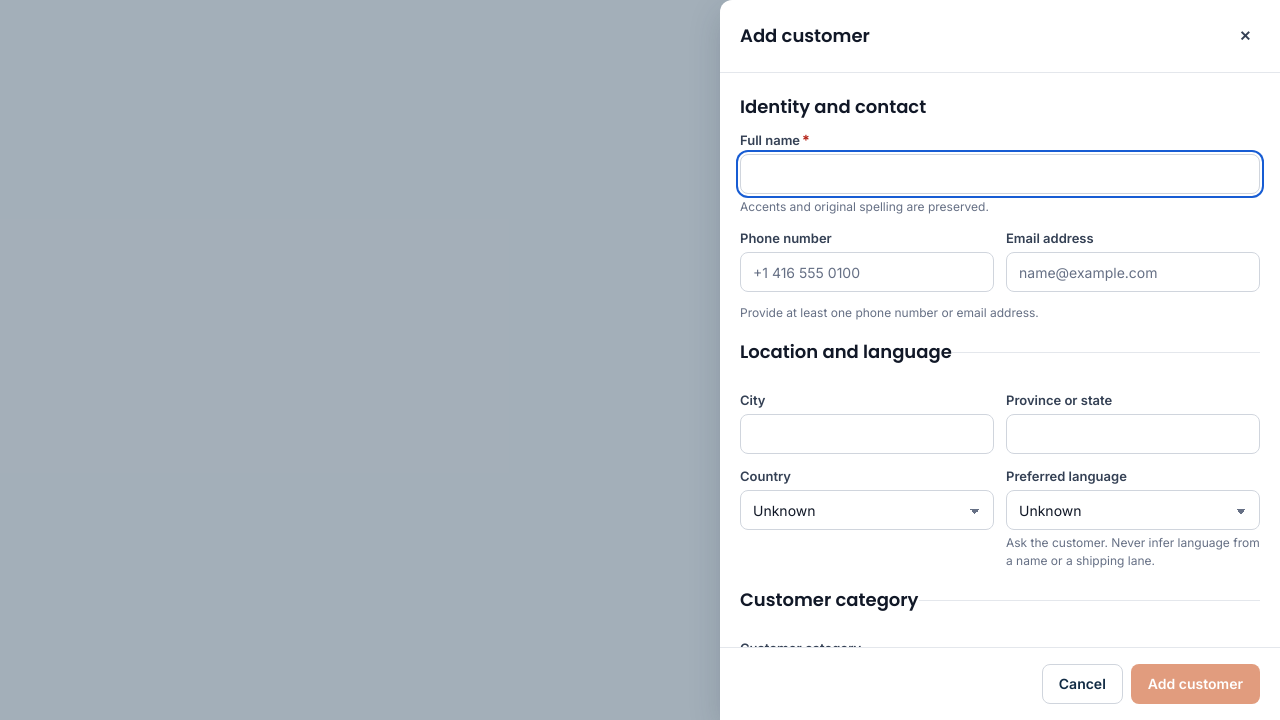
Test: Add customer › error summary › maps the server's request-validation 422 to its field in the form's own words
In the field labelled "Full name": point(1000, 174) [740,154,1260,194], type "Trần Văn Bình"
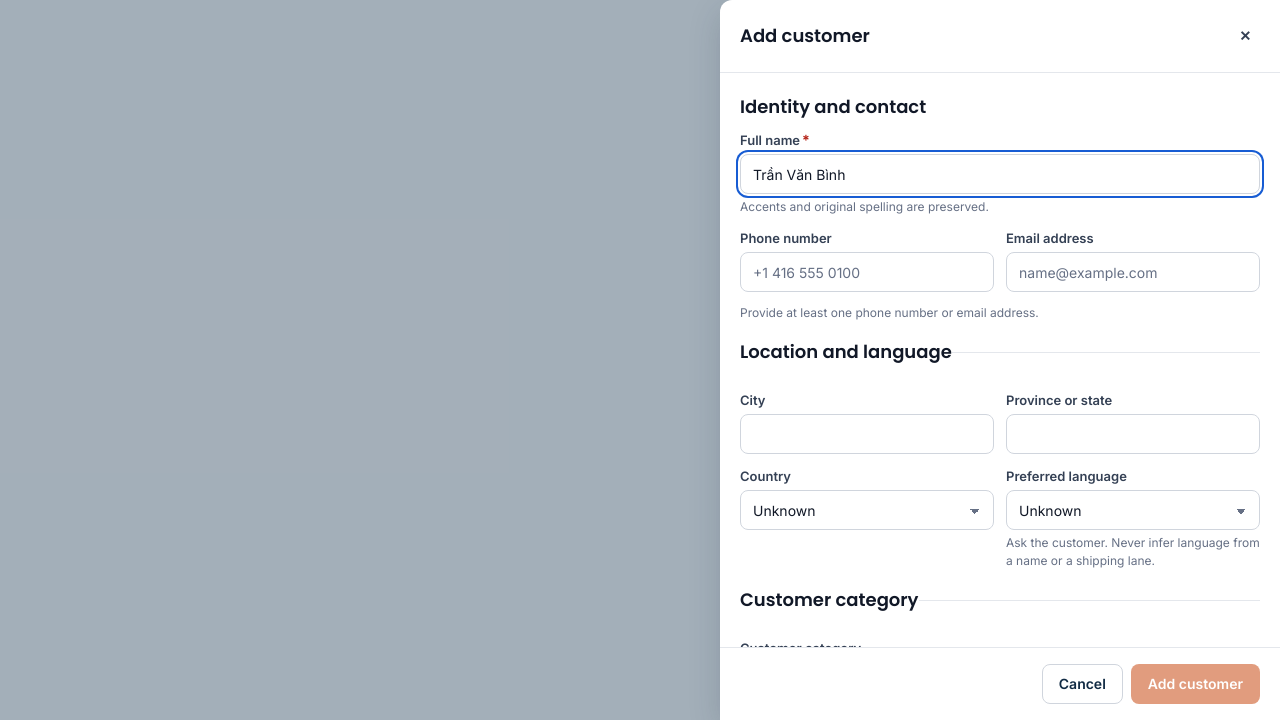
In the field labelled "Phone number": point(867, 272) [740,252,994,292], type "+1 416 555 0101"
(page scrolled)
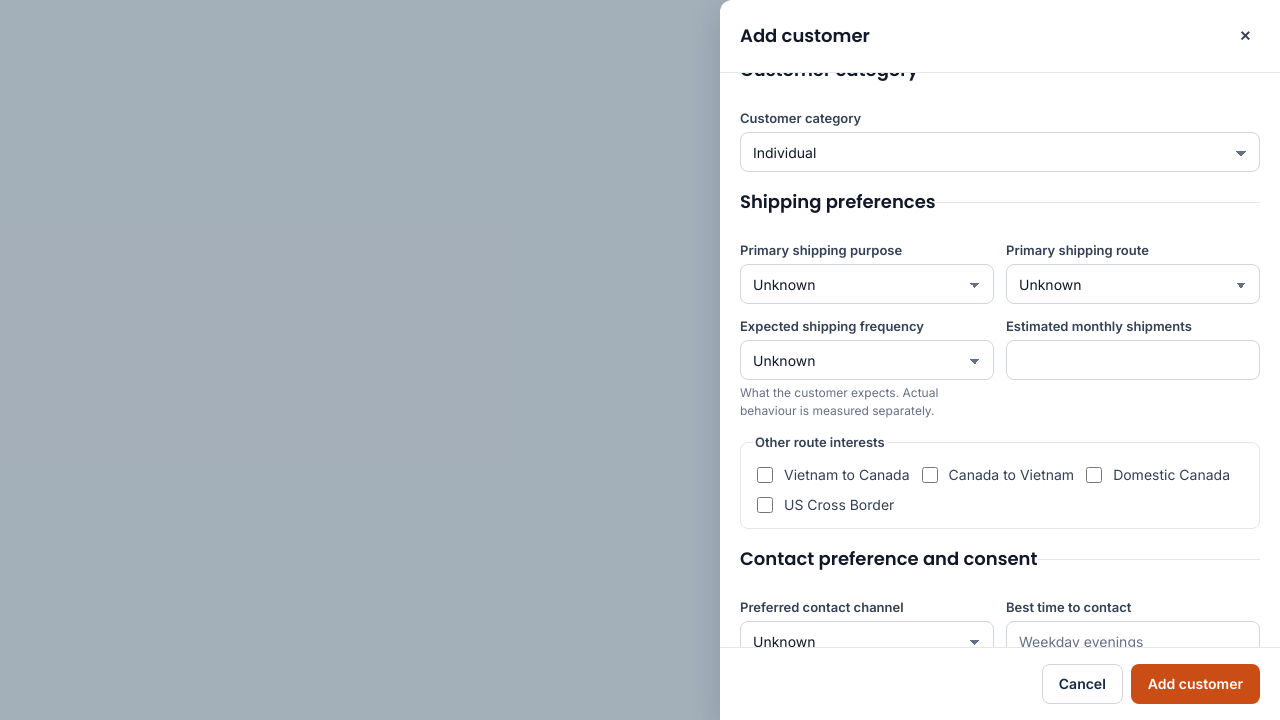
In the number field labelled "Estimated monthly shipments": point(1133, 360) [1006,340,1260,380], type "4"
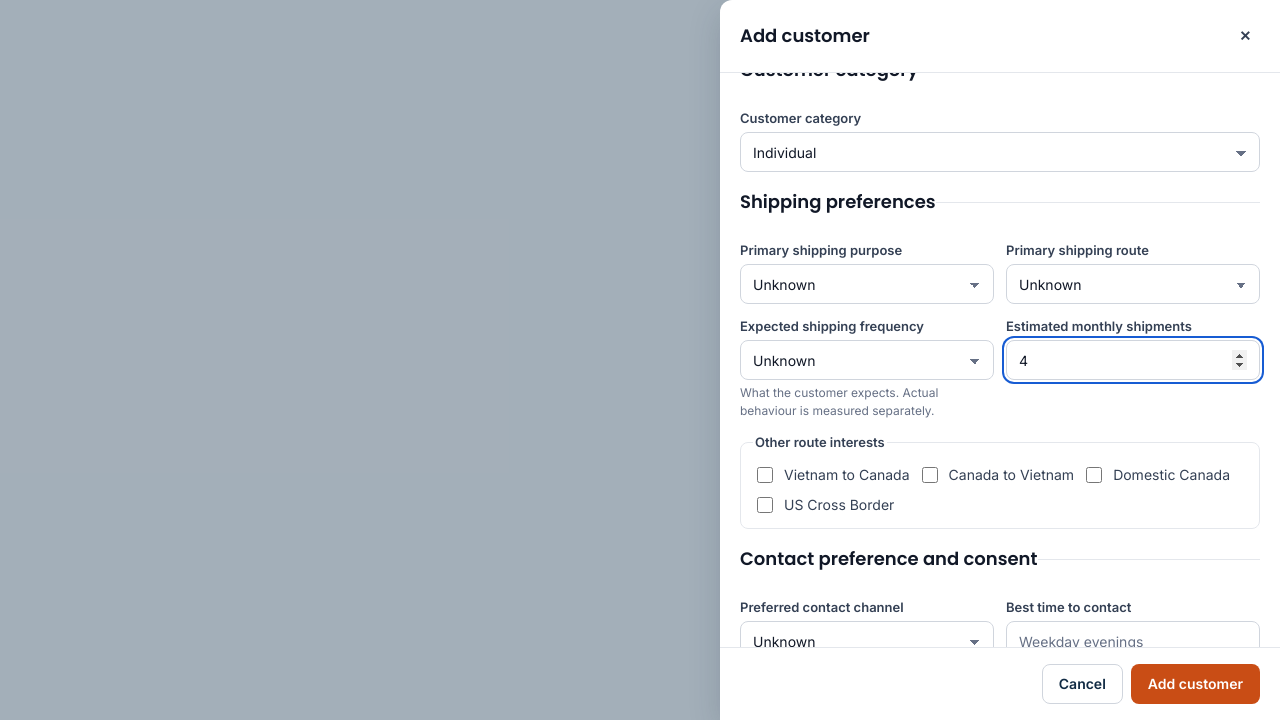
Click the button "Add customer": point(1195, 684) [1131,664,1260,704]
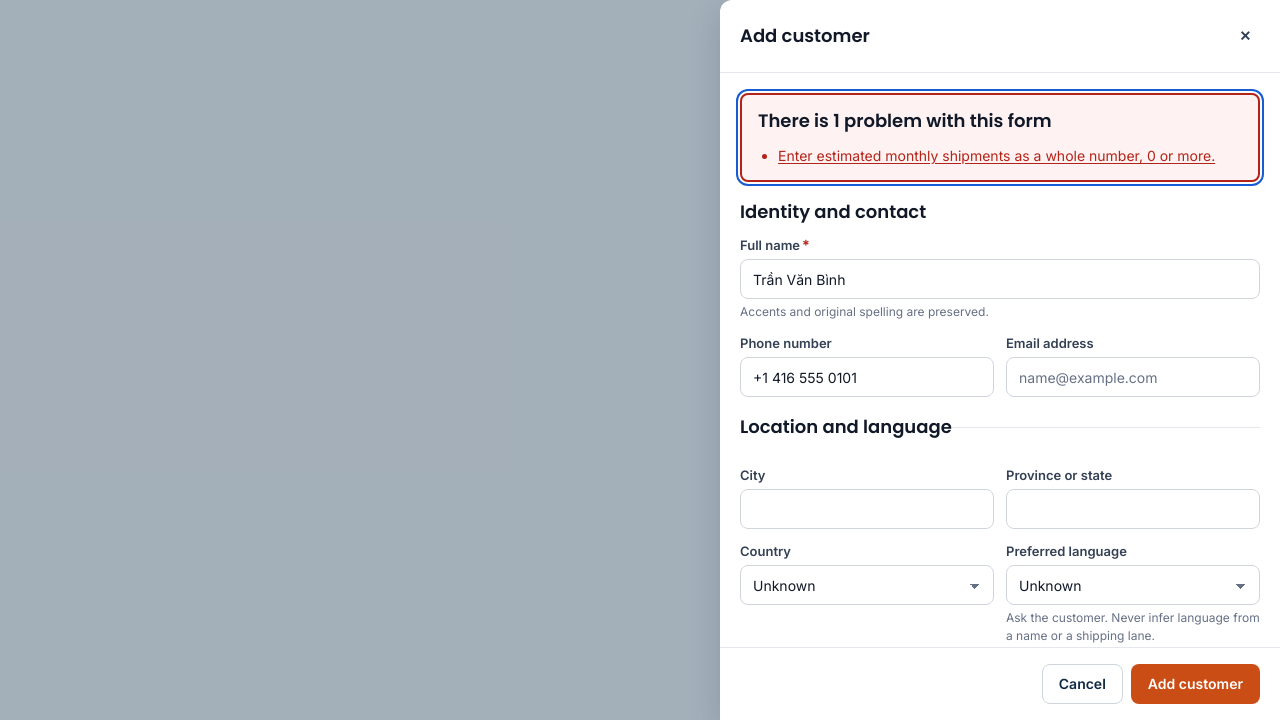
Expected: the link "Enter estimated monthly shipments as a whole number, 0 or more." is shown, [778,143,1215,168]
